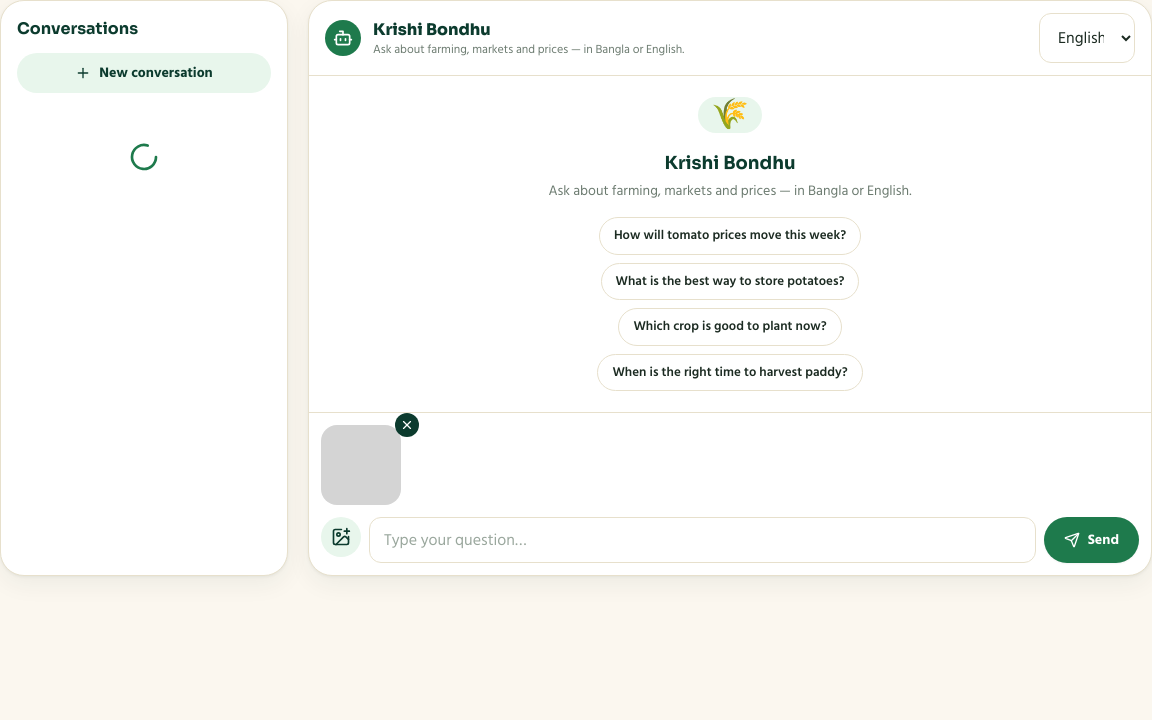
AssistantPage image upload › shows the server error and keeps the input + photo for retry when chatImage fails
Earlier steps of the test are not shown.
Type "What disease is this?" into the field labelled "Type your question…". click: (702, 540)
box: [369,517,1036,563]
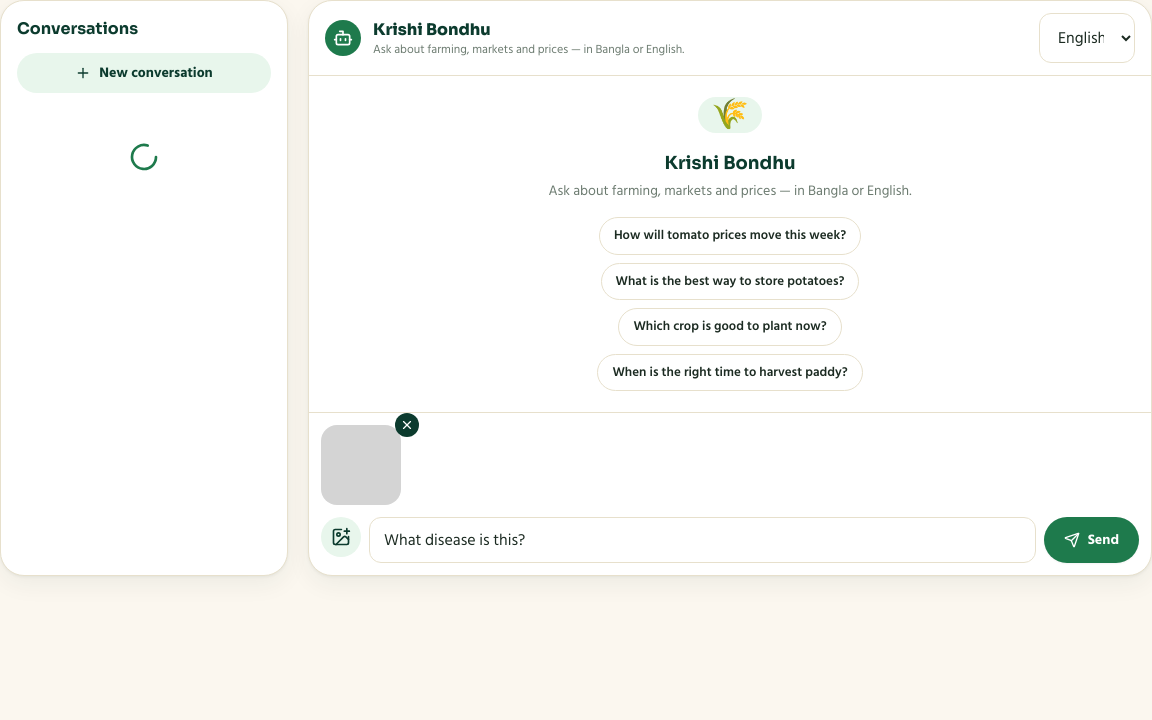
Click the button "Send". click: (1091, 540)
box: [1044,517,1139,563]
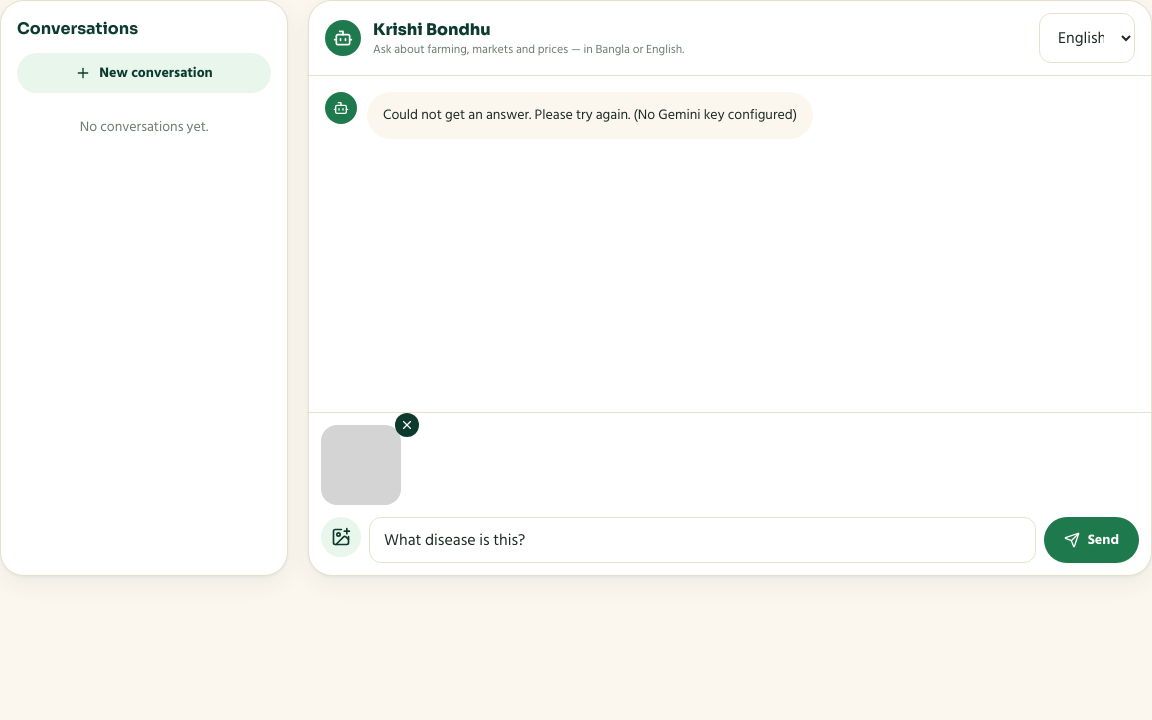
Check: the text "Could not get an answer" is shown, box [383,103,797,126]
